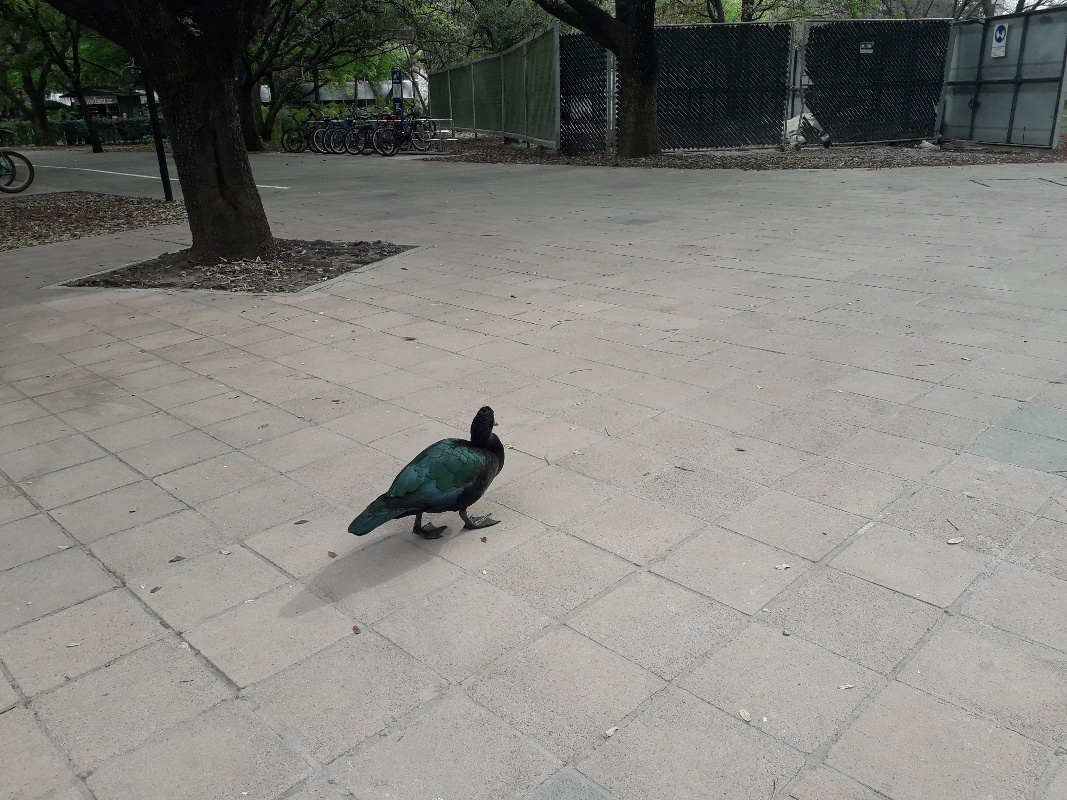pato: (357, 401, 510, 551)
